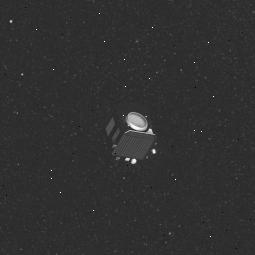proba_3_ocs: (102, 103, 162, 171)
